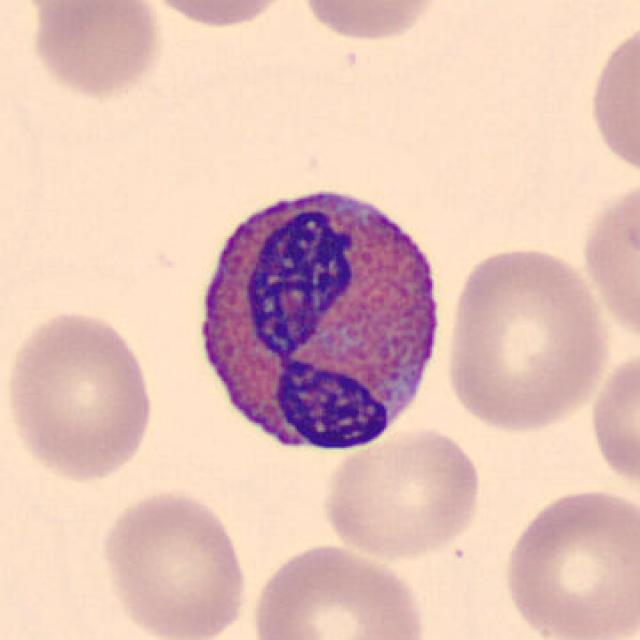Eosinophil: (179, 169, 457, 467)
RBC: (439, 240, 613, 437), (2, 305, 160, 485), (95, 485, 252, 640), (318, 423, 486, 561), (498, 483, 638, 640), (245, 539, 430, 640), (23, 0, 167, 100), (578, 169, 638, 353), (585, 14, 638, 183), (587, 344, 638, 495), (295, 0, 448, 46), (141, 0, 295, 32)
